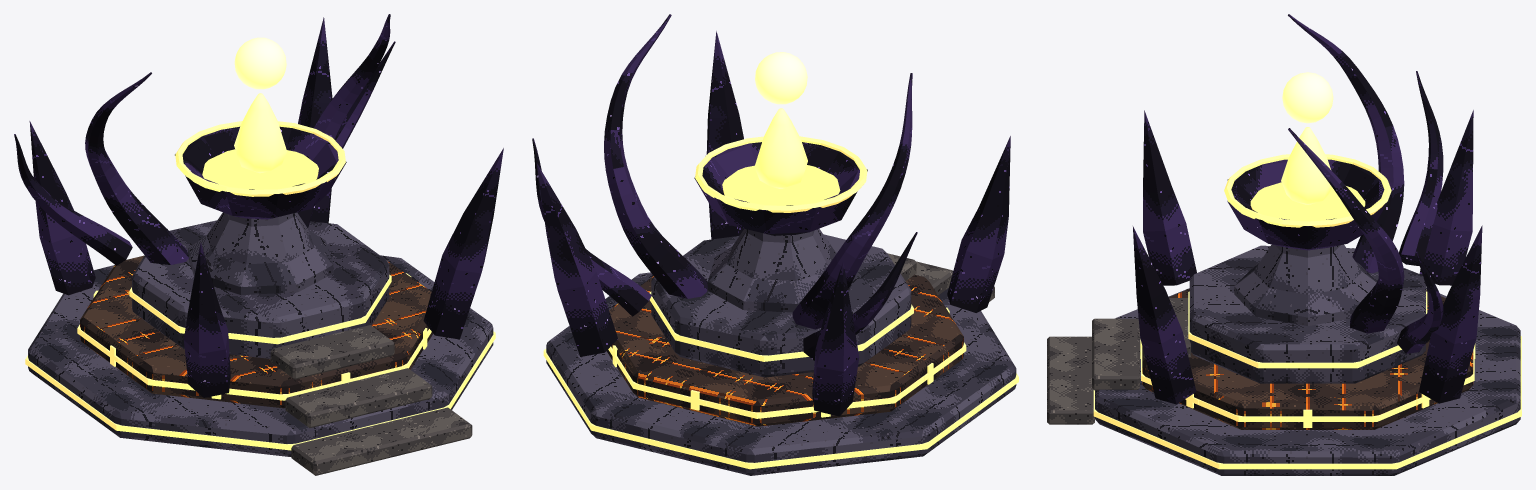
File: crater_altar.glb
The picture shows the model from 3 angles, left to right: view 1: azimuth 30°, elevation 25°; view 2: azimuth 150°, elevation 25°; view 3: azimuth 270°, elevation 25°; orthographic projection. The views are drawn at different scales.
Visible parts, largest first — view 1: Tier0, Spikes, Steps, Tier2, Tier1, Fins, Pedestal, Embers, Bowl, Coals, Flame, BowlRim (+1 smaller); view 2: Tier0, Spikes, Tier1, Fins, Tier2, Pedestal, Embers, Bowl, Coals, Flame, BowlRim, Orb (+1 smaller); view 3: Tier0, Spikes, Tier2, Fins, Tier1, Pedestal, Steps, Embers, Bowl, Flame, Coals, BowlRim (+1 smaller).
Boxes of the visible parts, x1,y1,x2,y2 form: Tier0: (28, 255, 493, 456); Spikes: (29, 17, 503, 397); Steps: (270, 325, 472, 475); Tier2: (132, 220, 389, 358); Tier1: (80, 255, 433, 408); Fins: (14, 14, 395, 265); Pedestal: (188, 212, 333, 295); Embers: (25, 273, 495, 450); Bowl: (175, 126, 346, 219); Coals: (202, 149, 318, 189); Flame: (234, 93, 286, 173); BowlRim: (175, 121, 345, 196); Tier0: (546, 272, 1016, 475); Spikes: (537, 31, 1010, 416); Tier1: (606, 274, 963, 426); Fins: (532, 14, 917, 360); Tier2: (651, 234, 911, 377); Pedestal: (707, 228, 850, 312); Embers: (543, 291, 1018, 469); Bowl: (694, 142, 867, 235); Coals: (722, 165, 840, 205); Flame: (754, 108, 807, 188); BowlRim: (695, 136, 867, 212); Orb: (755, 52, 807, 104); Tier0: (1095, 288, 1520, 475); Spikes: (1133, 110, 1482, 404); Tier2: (1189, 245, 1425, 383); Fins: (1288, 14, 1443, 353); Tier1: (1142, 289, 1473, 429); Pedestal: (1234, 244, 1376, 325); Steps: (1047, 298, 1190, 424); Embers: (1093, 289, 1521, 469); Bowl: (1227, 159, 1388, 250); Flame: (1281, 127, 1331, 204); Coals: (1250, 182, 1365, 220); BowlRim: (1224, 154, 1391, 227).
Bounding box in the file's own units: 6.72 × 5.46 × 7.42.
9 materials, 4 textured.
